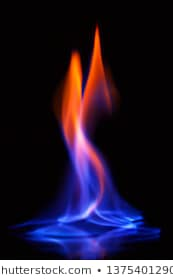Fire: (55, 21, 124, 218)
